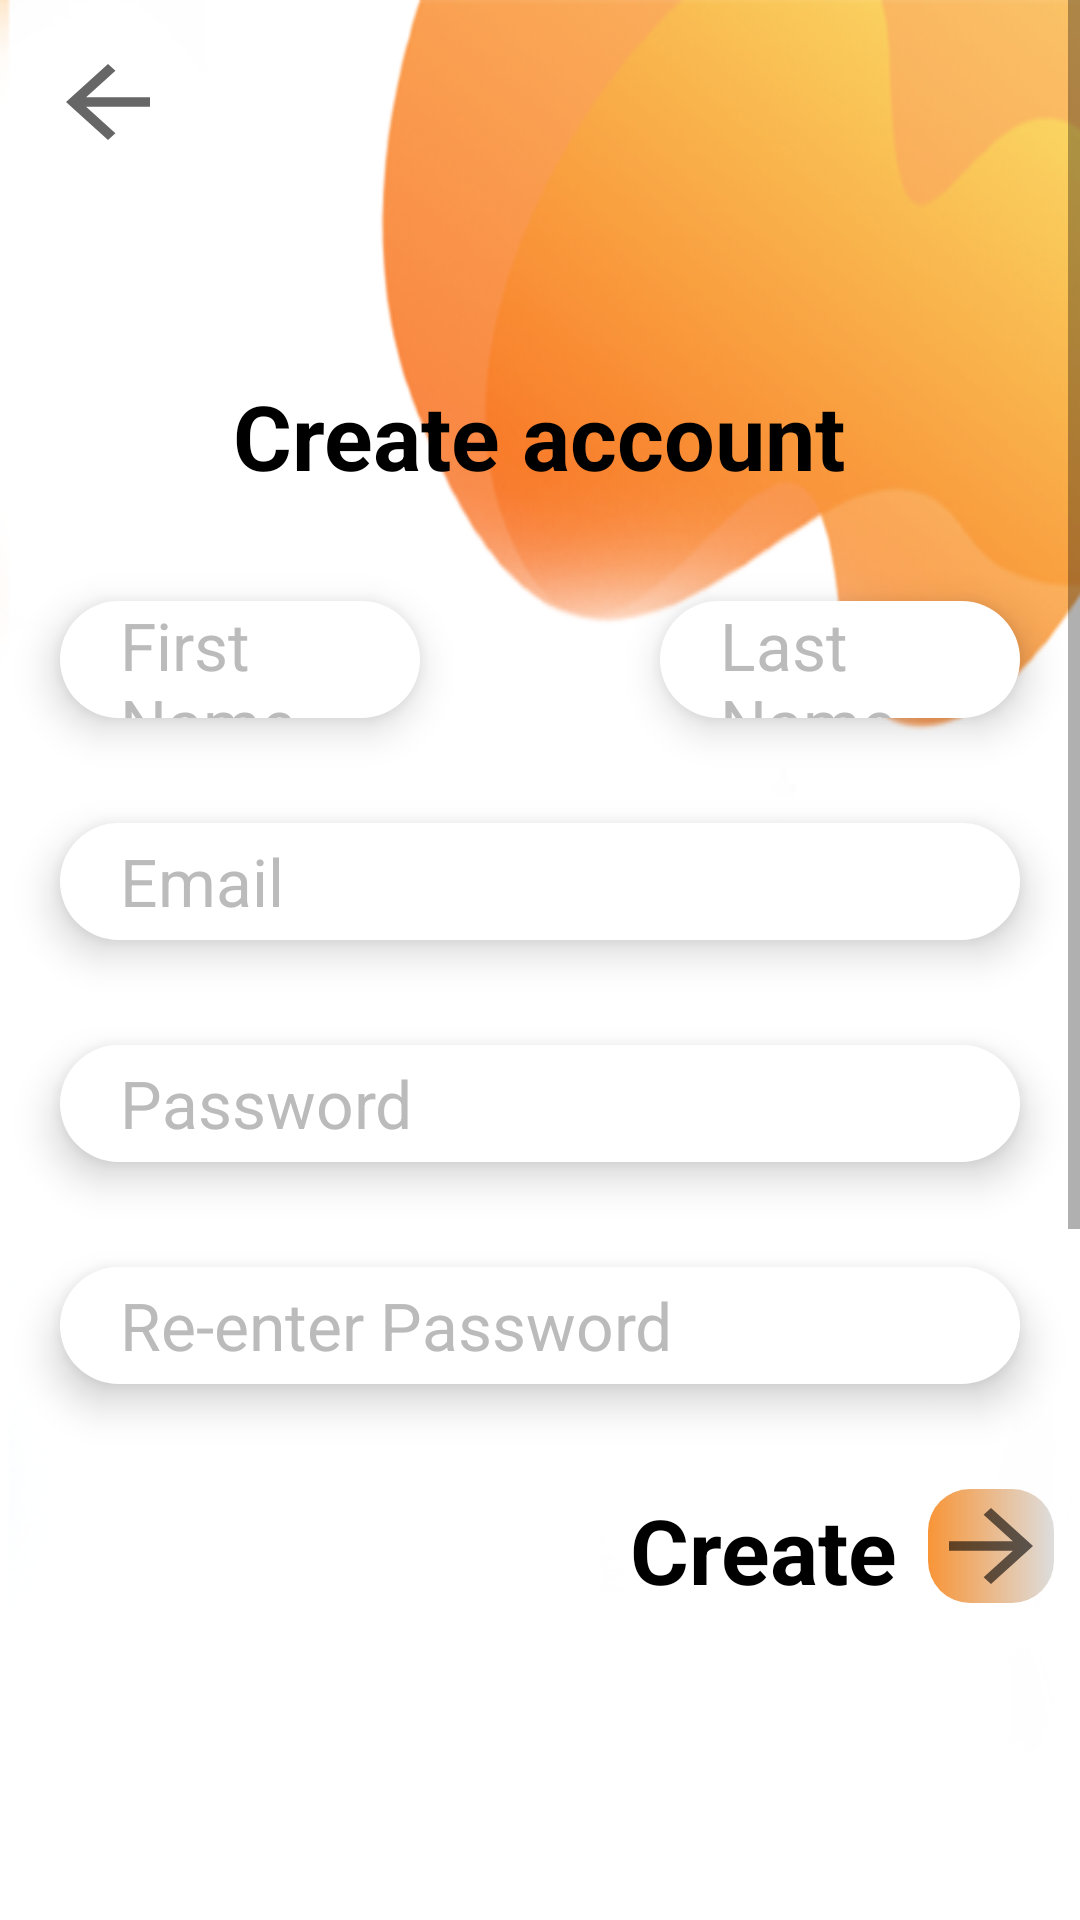

Locate icon controls on the screen. Image size 1080×1920, boxes as (x1, y1, x2, y2).
arrow back: (66, 64, 150, 140)
